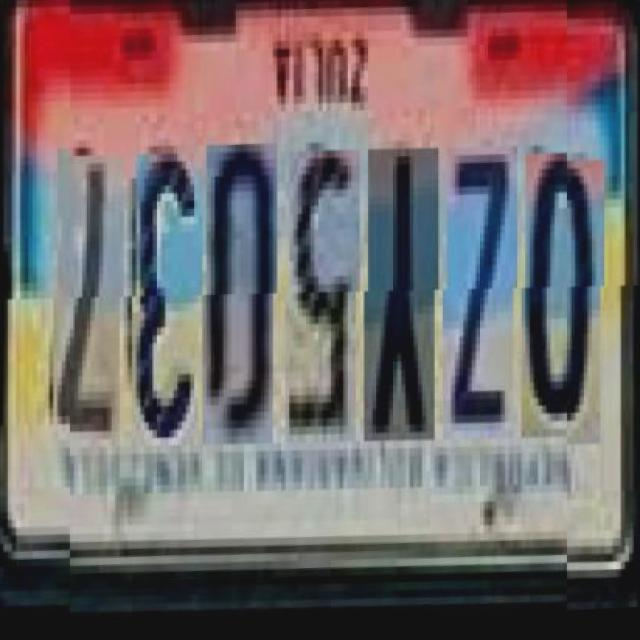0: (202, 147, 273, 452)
3: (132, 157, 197, 453)
5: (285, 153, 357, 450)
7: (54, 157, 120, 454)
o: (522, 157, 600, 446)
y: (363, 153, 435, 449)
z: (442, 151, 513, 447)
